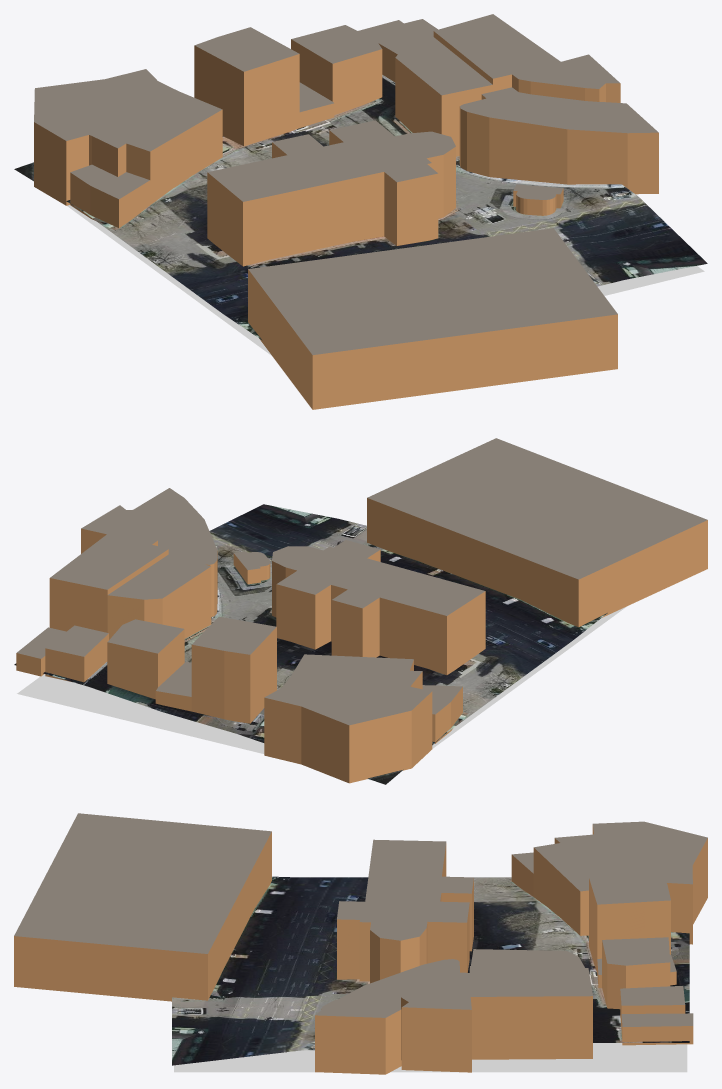
File: st_francois_small_just_terrain.glb
The picture shows the model from 3 angles, top to bottom: view 1: azimuth 30°, elevation 25°; view 2: azimuth 150°, elevation 25°; view 3: azimuth 270°, elevation 25°; orthographic projection. The views are drawn at different scales.
Parts seen in each view (by area): view 1: element, Terrain, Église Saint-François, element.008, element.004, element.009, element.006, element.005, element.001, element.007, Terrain_envelope, element.003 (+2 smaller); view 2: element, Terrain, Église Saint-François, element.008, element.006, element.009, element.005, Terrain_envelope, element.001, element.004, element.003, element.007 (+3 smaller); view 3: element, Terrain, element.006, Église Saint-François, element.008, element.004, Terrain_envelope, element.009, element.001, element.002, element.005, element.003 (+1 smaller).
Boxes of the visible parts, box(x1,y1,x2,y2) form: element: box(248, 228, 617, 409); Terrain: box(14, 75, 707, 340); Église Saint-François: box(207, 120, 455, 266); element.008: box(34, 69, 222, 205); element.004: box(459, 87, 658, 194); element.009: box(194, 27, 299, 146); element.006: box(433, 14, 620, 102); element.005: box(395, 37, 492, 156); element.001: box(291, 25, 382, 114); element.007: box(70, 164, 150, 227); Terrain_envelope: box(32, 180, 704, 355); element.003: box(358, 20, 426, 82); element: box(367, 438, 707, 627); Terrain: box(14, 504, 607, 784); Église Saint-François: box(272, 540, 485, 675); element.008: box(264, 654, 432, 783); element.006: box(49, 505, 168, 632); element.009: box(191, 616, 276, 723); element.005: box(107, 554, 211, 639); Terrain_envelope: box(17, 606, 627, 780); element.001: box(107, 619, 184, 699); element.004: box(134, 488, 217, 616); element.003: box(45, 625, 108, 682); element.007: box(422, 685, 462, 743); element: box(14, 813, 271, 1001); Terrain: box(172, 876, 689, 1065); element.006: box(401, 966, 592, 1072); Église Saint-François: box(337, 839, 473, 983); element.008: box(533, 821, 707, 944); element.004: box(315, 959, 469, 1074); Terrain_envelope: box(174, 1043, 687, 1072); element.009: box(589, 873, 670, 972); element.001: box(602, 937, 670, 1009); element.002: box(621, 1013, 693, 1045); element.005: box(471, 949, 584, 967); element.003: box(620, 986, 685, 1029).
Size of the model in its own units: 125 by 23.02 by 166.
Materials: 3 (1 with a texture image).
